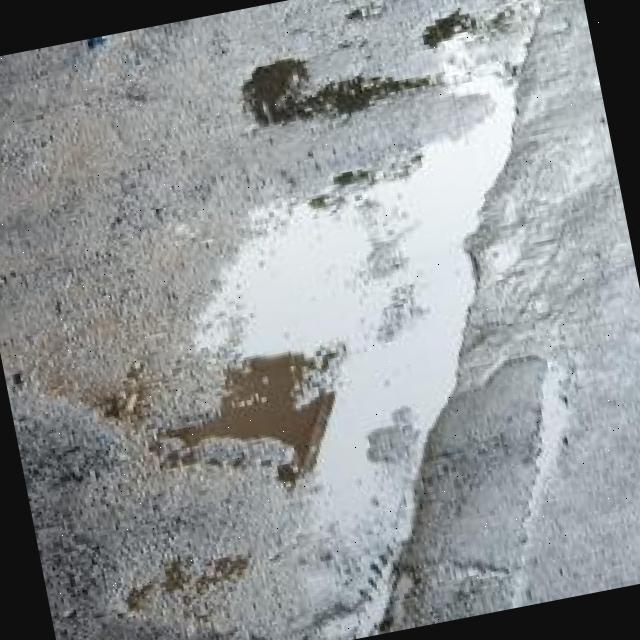stagnation: (209, 101, 513, 627)
